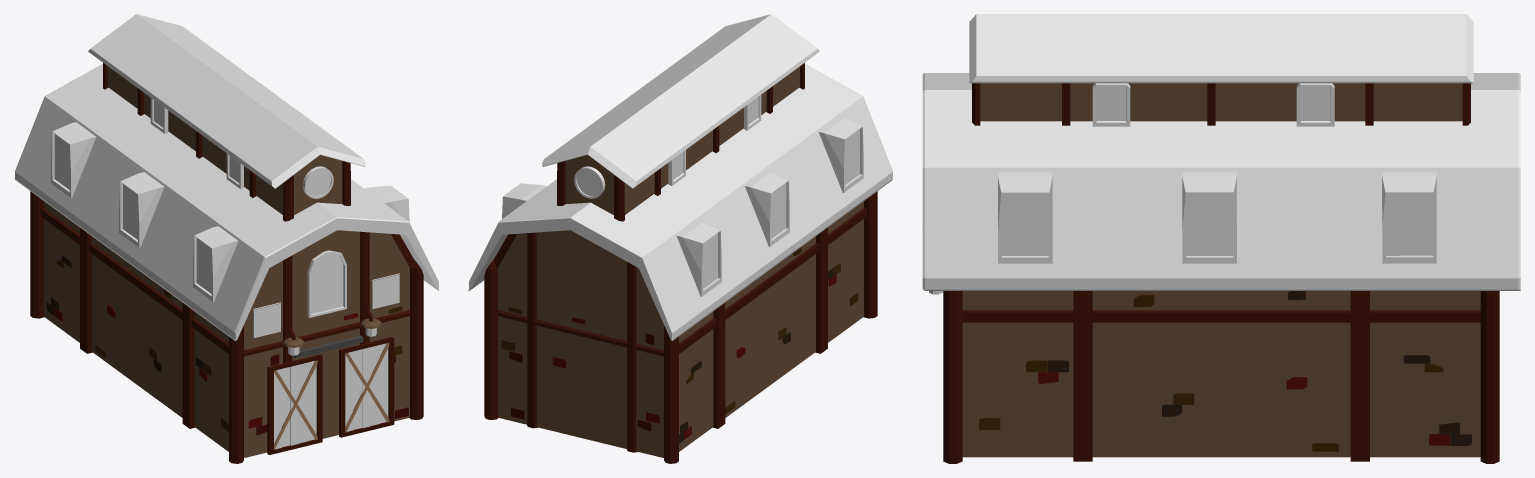
Rendered from Village_Build_1.fbx.
3 renders of one model, left to right at view 1: azimuth 30°, elevation 25°; view 2: azimuth 150°, elevation 25°; view 3: azimuth 270°, elevation 25°, orthographic. The views are drawn at different scales.
Parts seen in each view (by area): view 1: Cylinder.001; view 2: Cylinder.001; view 3: Cylinder.001.
Boxes of the visible parts, left/top/right/bottom form: Cylinder.001: left=14, top=14, right=439, bottom=463; Cylinder.001: left=468, top=14, right=893, bottom=463; Cylinder.001: left=922, top=14, right=1520, bottom=463.
Bounding box in the file's own units: 298 × 399 × 559.
